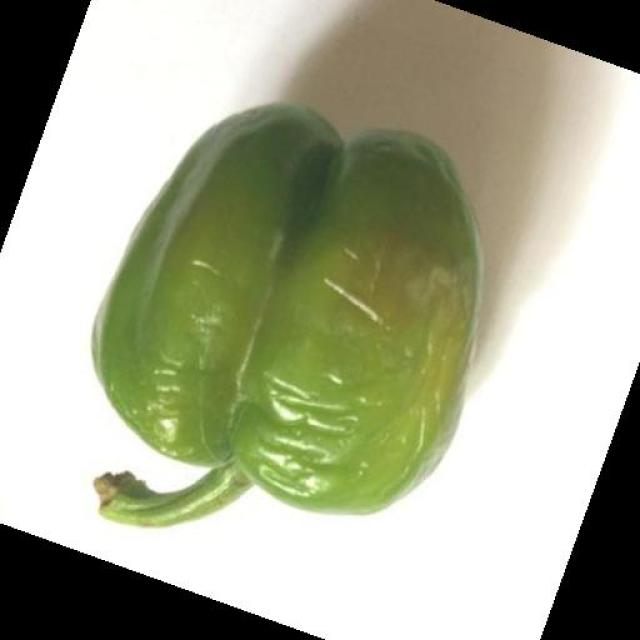Stale_Capsicum: (91, 127, 468, 476)
